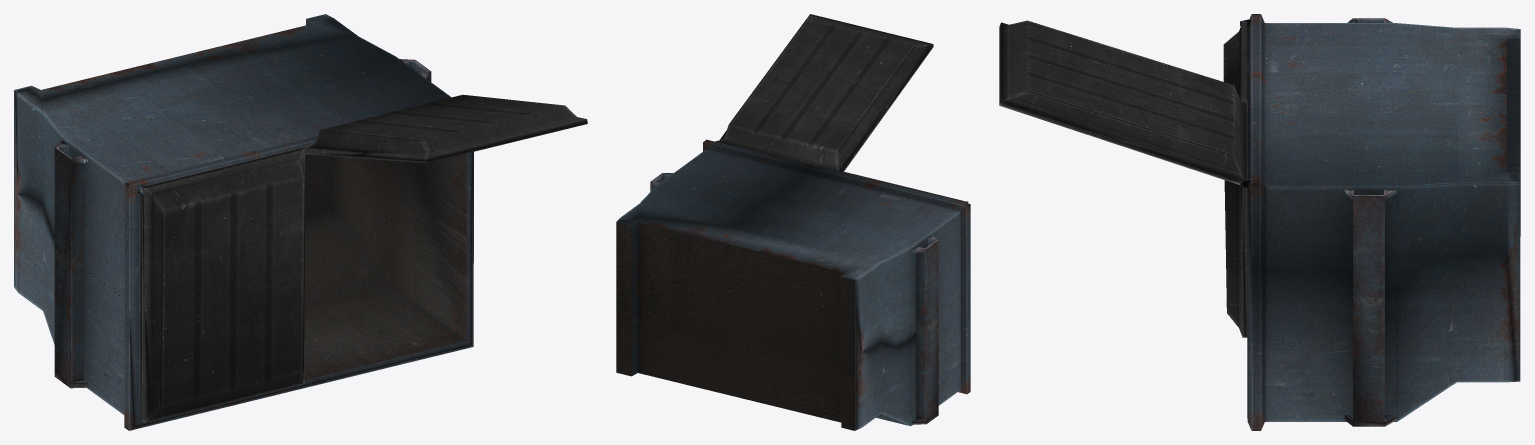
Rendered from dumpster.fbx.
3 renders of one model, left to right at view 1: azimuth 30°, elevation 25°; view 2: azimuth 150°, elevation 25°; view 3: azimuth 270°, elevation 25°, orthographic. The views are drawn at different scales.
Visible parts, largest first — view 1: dumpster; view 2: dumpster; view 3: dumpster.
Boxes of the visible parts, box(x1,y1,x2,y2) form: dumpster: box(14, 14, 587, 430); dumpster: box(616, 14, 970, 430); dumpster: box(999, 14, 1520, 430).
Bounding box in the file's own units: 2.33 × 2.02 × 2.88.
